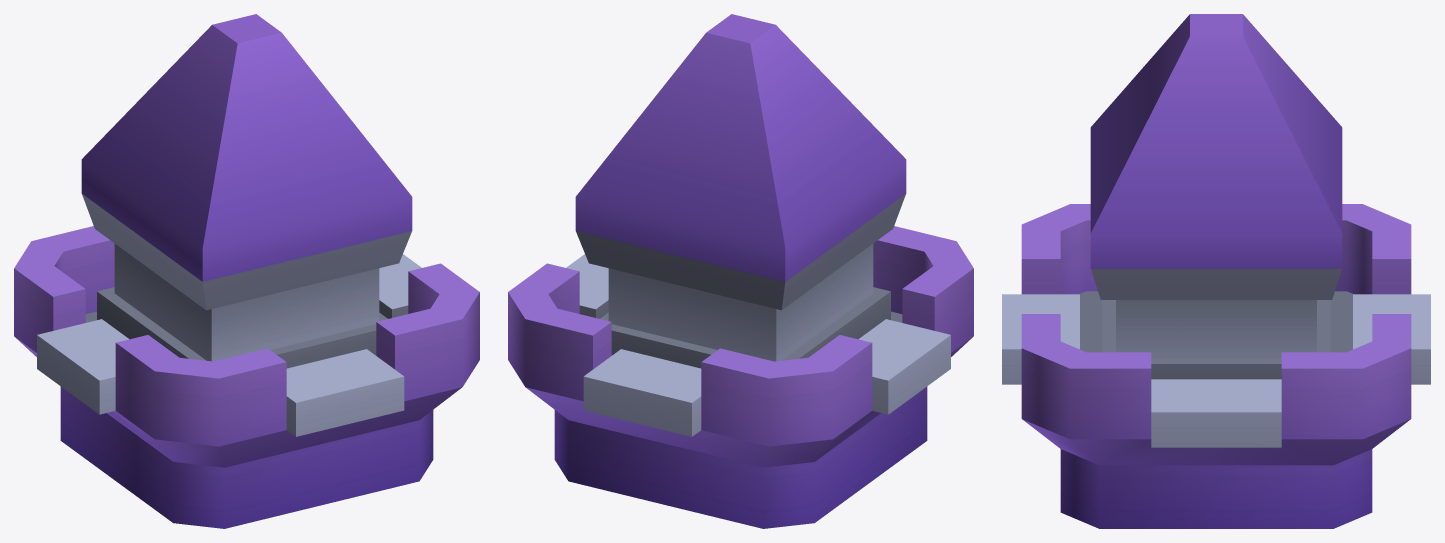
Rendered from kenney-tower-defense-tower-square-roof-b.glb.
The picture shows the model from 3 angles, left to right: view 1: azimuth 30°, elevation 25°; view 2: azimuth 150°, elevation 25°; view 3: azimuth 270°, elevation 25°; orthographic projection. The views are drawn at different scales.
Parts seen in each view (by area): view 1: tower-square-roof-b; view 2: tower-square-roof-b; view 3: tower-square-roof-b.
Part boxes in pixels (<box>): tower-square-roof-b: <box>14,14,479,528</box>; tower-square-roof-b: <box>508,14,973,528</box>; tower-square-roof-b: <box>1002,14,1430,528</box>.
Bounding box in the file's own units: 1.1 × 1.24 × 1.1.
1 material, 1 textured.
